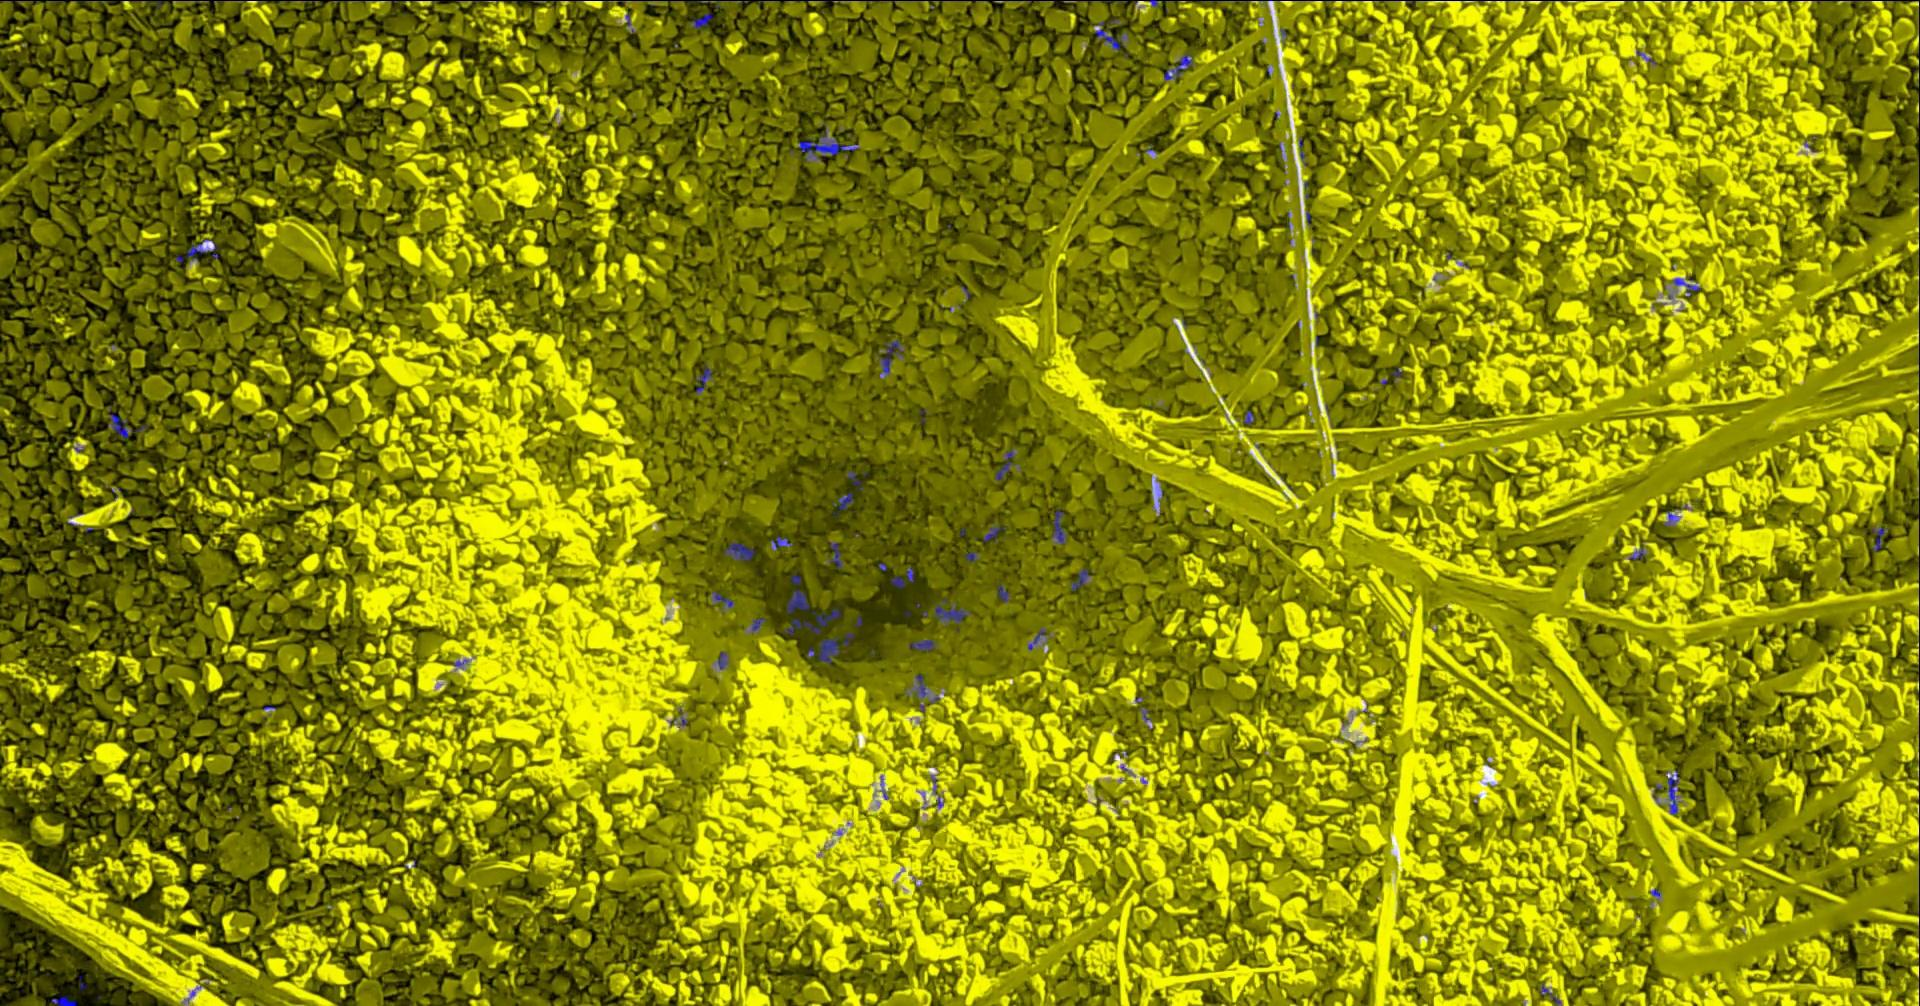ant: (797, 127, 858, 161), (783, 605, 841, 634), (806, 633, 853, 663), (107, 406, 147, 438), (1655, 768, 1679, 814), (175, 238, 218, 262), (933, 598, 970, 625), (1095, 20, 1128, 50), (877, 339, 905, 373), (1163, 53, 1192, 80), (996, 448, 1017, 480), (724, 541, 754, 561), (786, 589, 809, 614), (695, 362, 712, 392), (1051, 509, 1067, 544), (890, 567, 914, 588), (1672, 278, 1699, 296), (825, 541, 843, 567), (1070, 569, 1092, 589), (1539, 983, 1559, 1005), (1027, 627, 1046, 650), (1870, 526, 1887, 551), (912, 673, 927, 699), (832, 492, 853, 509), (983, 523, 1004, 541), (711, 591, 733, 608), (690, 11, 712, 28), (908, 639, 937, 652), (846, 471, 863, 490), (770, 535, 792, 549), (51, 995, 76, 1005), (996, 584, 1010, 602), (690, 0, 721, 8), (1298, 136, 1305, 165), (750, 617, 764, 633), (1628, 546, 1644, 559), (717, 652, 728, 669), (1243, 410, 1255, 424)
